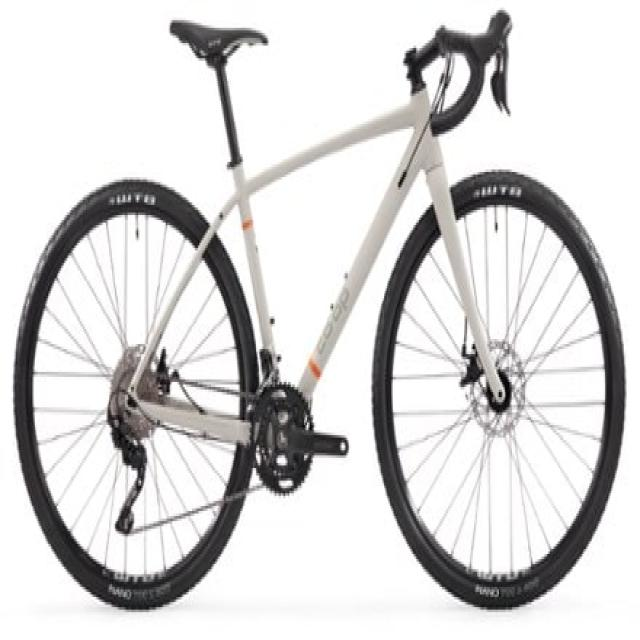road-bike: (12, 9, 627, 613)
